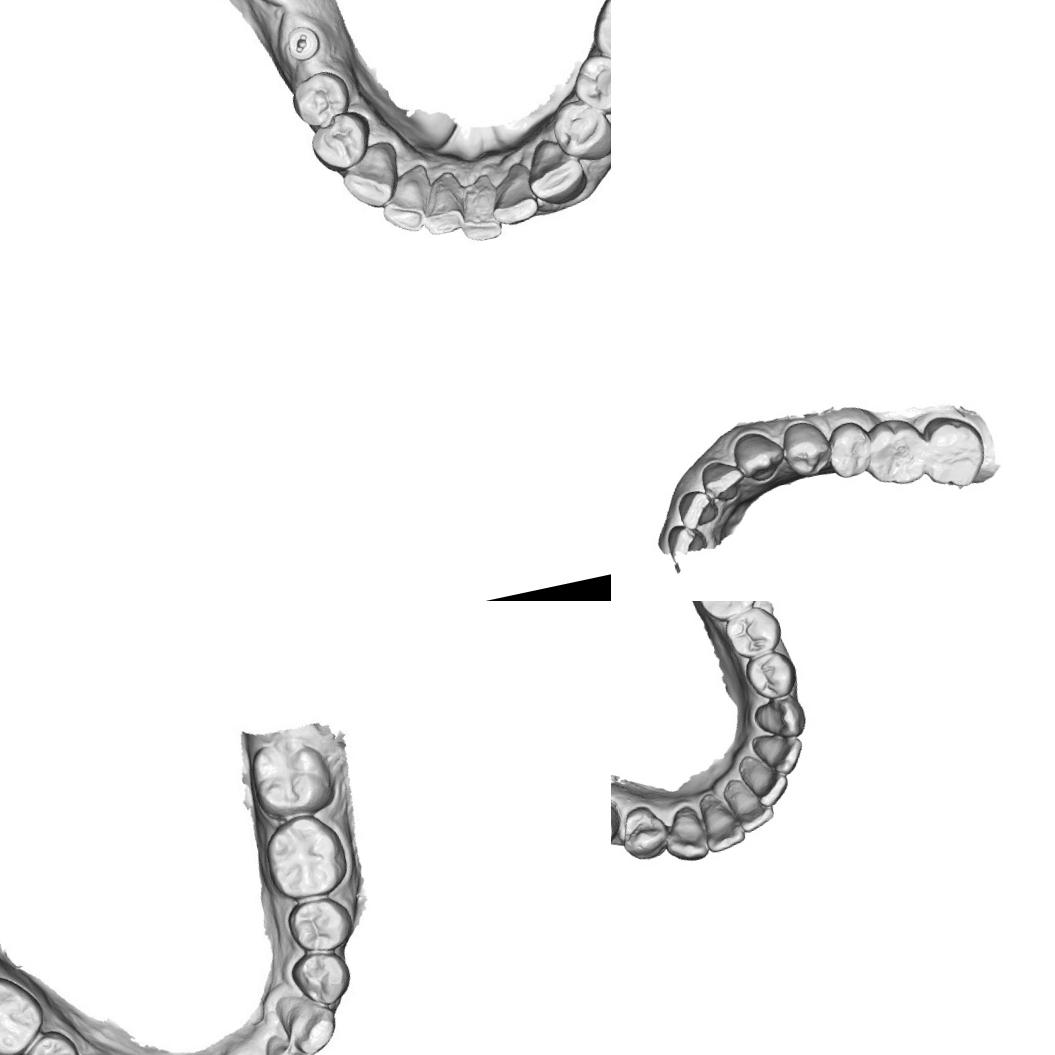canine: (267, 979, 347, 1055), (520, 132, 592, 210), (334, 138, 404, 216), (656, 795, 717, 870), (728, 425, 790, 487), (752, 684, 812, 740)
crown: (611, 791, 633, 849)
implant_minus: (280, 18, 325, 67)
incisor: (720, 768, 782, 834), (482, 162, 543, 229), (694, 786, 752, 856), (376, 174, 431, 239), (454, 180, 508, 246), (738, 748, 795, 808), (415, 178, 469, 238), (697, 454, 751, 507), (754, 724, 806, 777), (672, 485, 723, 535), (662, 518, 710, 565), (256, 1023, 318, 1055)
molar: (244, 727, 338, 824), (261, 808, 346, 898), (918, 408, 992, 493), (859, 412, 934, 492), (0, 973, 38, 1055), (582, 0, 611, 79), (686, 601, 764, 629)
premolar: (286, 942, 358, 1015), (305, 107, 377, 177), (546, 92, 611, 169), (286, 64, 356, 134), (282, 892, 353, 958), (611, 794, 671, 864), (722, 601, 785, 663), (778, 416, 836, 482), (822, 417, 878, 482), (741, 644, 800, 704), (566, 45, 611, 122), (19, 1028, 83, 1055)
